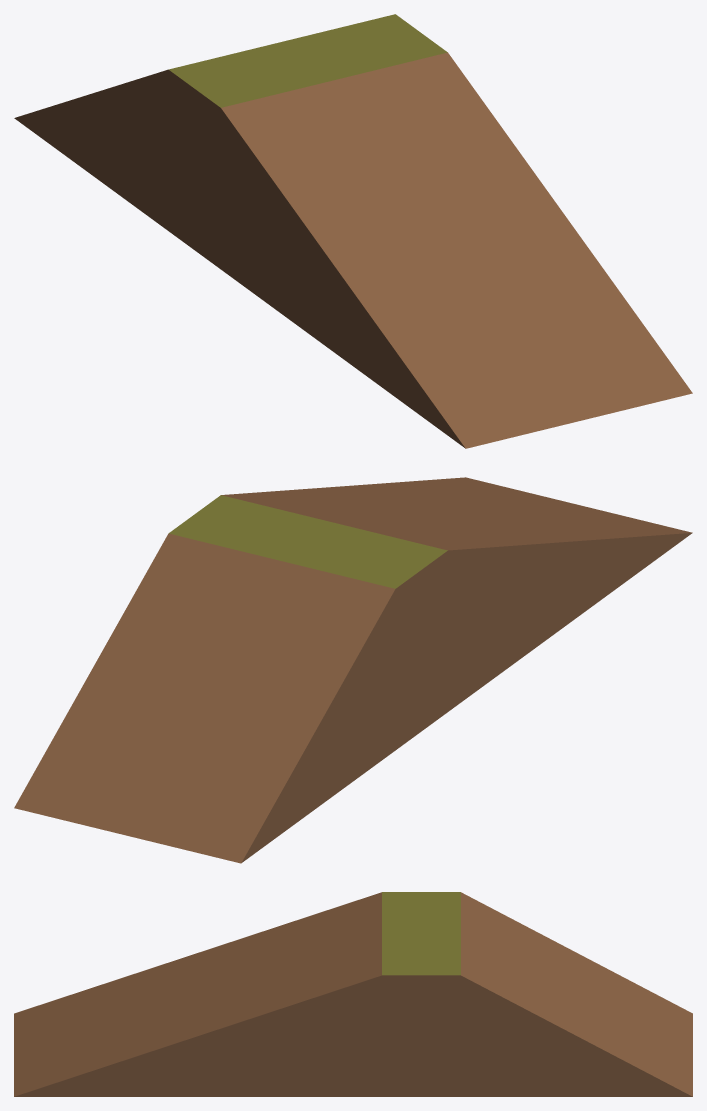
File: SM_TestHill.fbx
The picture shows the model from 3 angles, top to bottom: view 1: azimuth 30°, elevation 25°; view 2: azimuth 150°, elevation 25°; view 3: azimuth 270°, elevation 25°; orthographic projection. The views are drawn at different scales.
Visible parts, largest first — view 1: SM_TestHill; view 2: SM_TestHill; view 3: SM_TestHill.
Boxes of the visible parts, x1,y1,x2,y2 form: SM_TestHill: [14, 14, 692, 448]; SM_TestHill: [14, 477, 692, 863]; SM_TestHill: [14, 892, 692, 1096].
Bounding box in the file's own units: 5 × 17.23 × 3.4.
